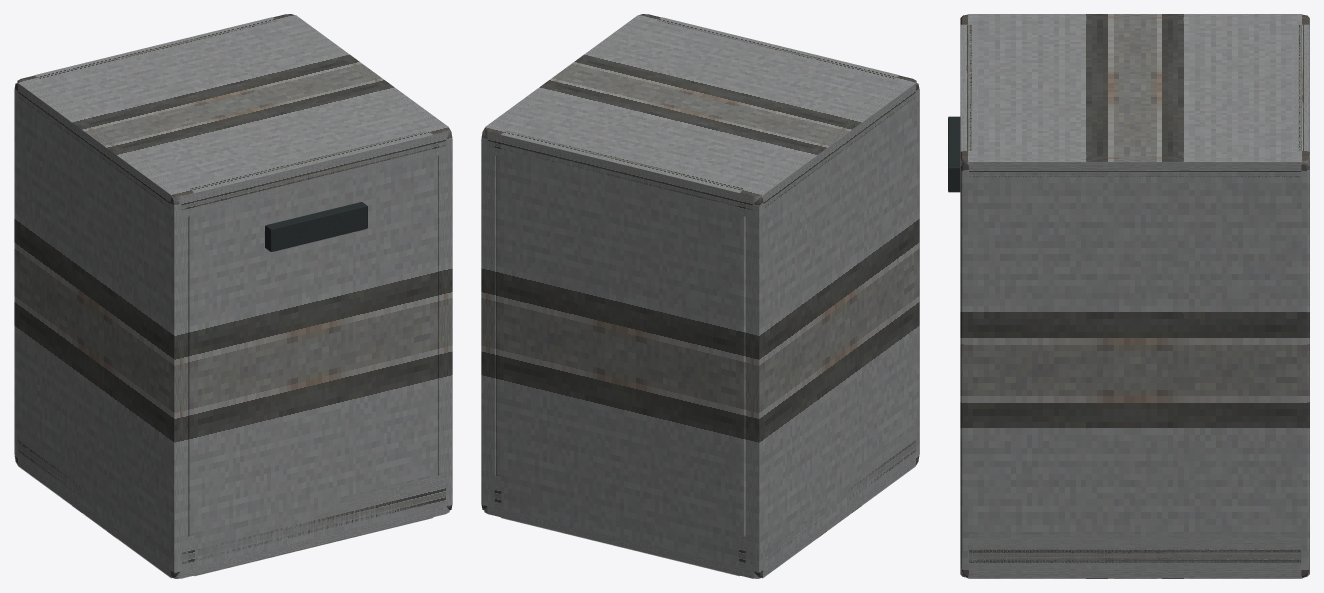
File: bath-bin.glb
3 views of the same model, side by side, from view 1: azimuth 30°, elevation 25°; view 2: azimuth 150°, elevation 25°; view 3: azimuth 270°, elevation 25° (orthographic). The views are drawn at different scales.
Parts seen in each view (by area): view 1: edge (×2), side (×2), lid, bottom, grip; view 2: edge (×2), side (×2), lid, bottom; view 3: side (×2), lid, bottom, edge (×2), grip.
Boxes of the visible parts, box(x1,y1,x2,y2) form: edge (×2): box(34, 17, 438, 576); side (×2): box(14, 15, 452, 578); lid: box(17, 14, 449, 217); bottom: box(18, 426, 449, 578); grip: box(265, 202, 367, 251); edge (×2): box(495, 17, 899, 576); side (×2): box(481, 15, 919, 578); lid: box(484, 14, 916, 217); bottom: box(484, 426, 915, 578); side (×2): box(960, 14, 1309, 578); lid: box(960, 14, 1309, 185); bottom: box(960, 534, 1309, 577); edge (×2): box(960, 24, 1309, 151); grip: box(948, 116, 960, 192).
Bounding box in the file's own units: 0.22 × 0.29 × 0.2277.
Materials: 2 (2 with a texture image).
